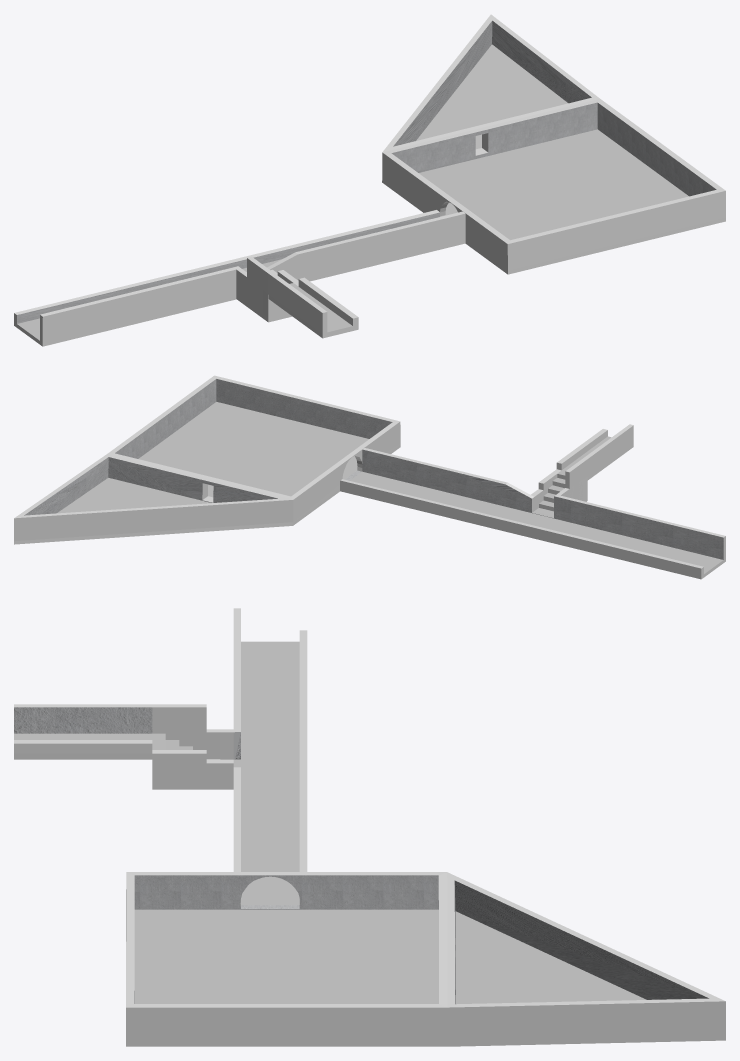
Rendered from TestModel.fbx.
The picture shows the model from 3 angles, top to bottom: view 1: azimuth 30°, elevation 25°; view 2: azimuth 150°, elevation 25°; view 3: azimuth 270°, elevation 25°; orthographic projection. The views are drawn at different scales.
Parts seen in each view (by area): view 1: Cube; view 2: Cube; view 3: Cube.
Part boxes in pixels (x1=…): Cube: x1=14, y1=14, x2=725, y2=346; Cube: x1=14, y1=375, x2=725, y2=579; Cube: x1=14, y1=608, x2=725, y2=1046.
Bounding box in the file's own units: 6283 × 464 × 4728.
